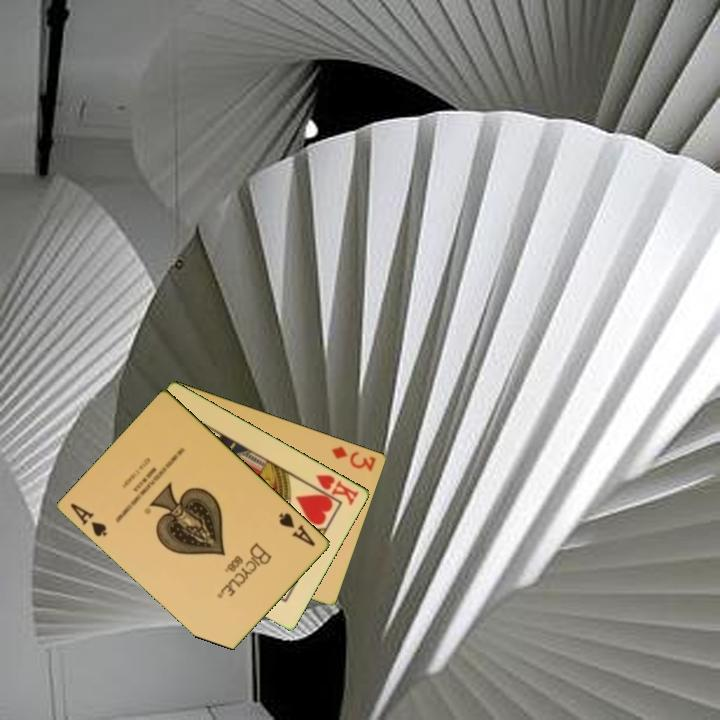3d: (328, 442, 379, 474)
As: (275, 509, 319, 550), (67, 499, 111, 540)
Kh: (305, 471, 362, 508)
